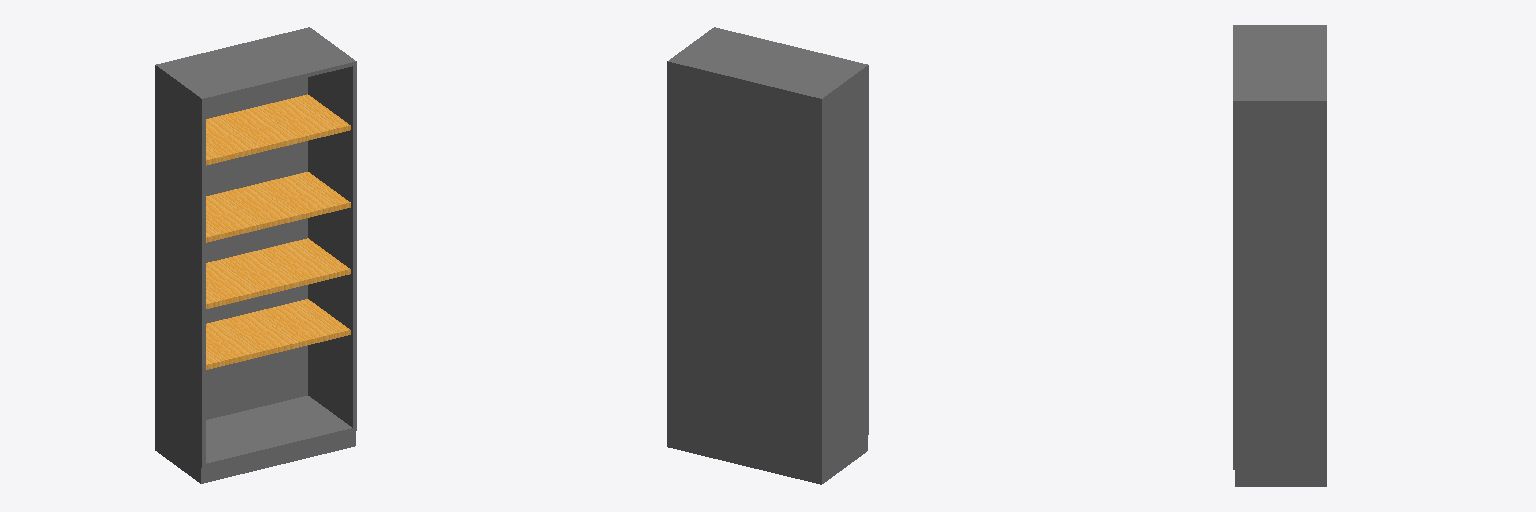
3 views of the same model, side by side, from view 1: azimuth 30°, elevation 25°; view 2: azimuth 150°, elevation 25°; view 3: azimuth 270°, elevation 25° (orthographic).
Visible parts, largest first — view 1: Cube.001; view 2: Cube.001; view 3: Cube.001.
Part boxes in pixels (x1,y1,x2,y2): Cube.001: (155,27,356,483); Cube.001: (667,27,868,484); Cube.001: (1233,25,1326,486).
Size of the model in its own units: 8 by 19.1 by 4.2.
Materials: 2 (1 with a texture image).